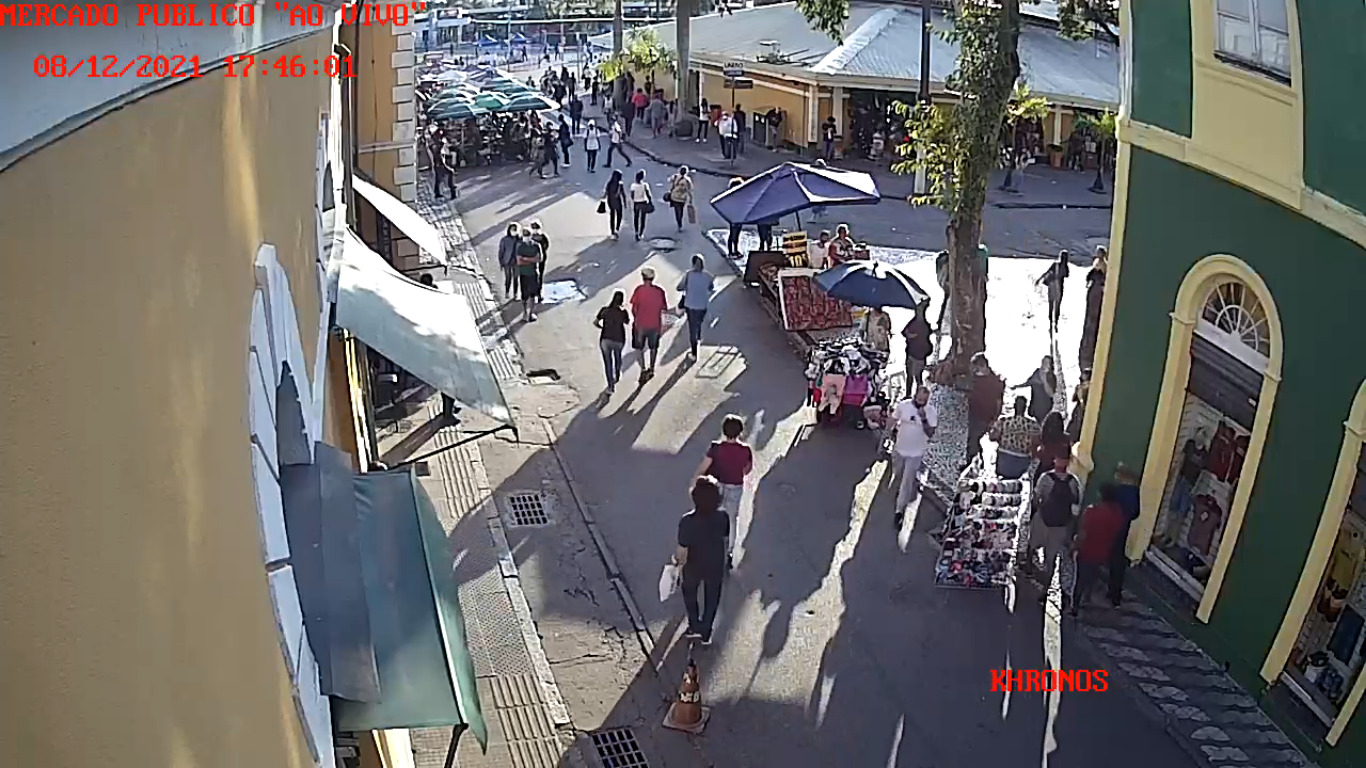pedestrian: (658, 476, 731, 647), (690, 412, 752, 561), (1021, 457, 1081, 589), (884, 387, 938, 528), (1077, 483, 1123, 613), (1103, 464, 1139, 611), (629, 264, 671, 379), (676, 254, 715, 361), (595, 289, 630, 395), (901, 306, 934, 400), (514, 229, 544, 322), (1038, 248, 1070, 327), (663, 165, 697, 233), (598, 170, 628, 240), (628, 170, 655, 240), (526, 221, 548, 302), (499, 222, 521, 299)
